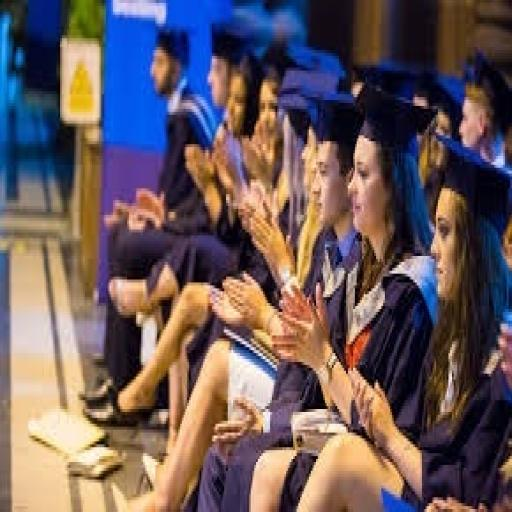clapping: (85, 27, 510, 509)
